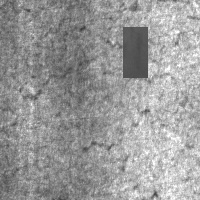crazing: (17, 16, 129, 102), (78, 83, 184, 170)
inclusion: (123, 27, 148, 78)
